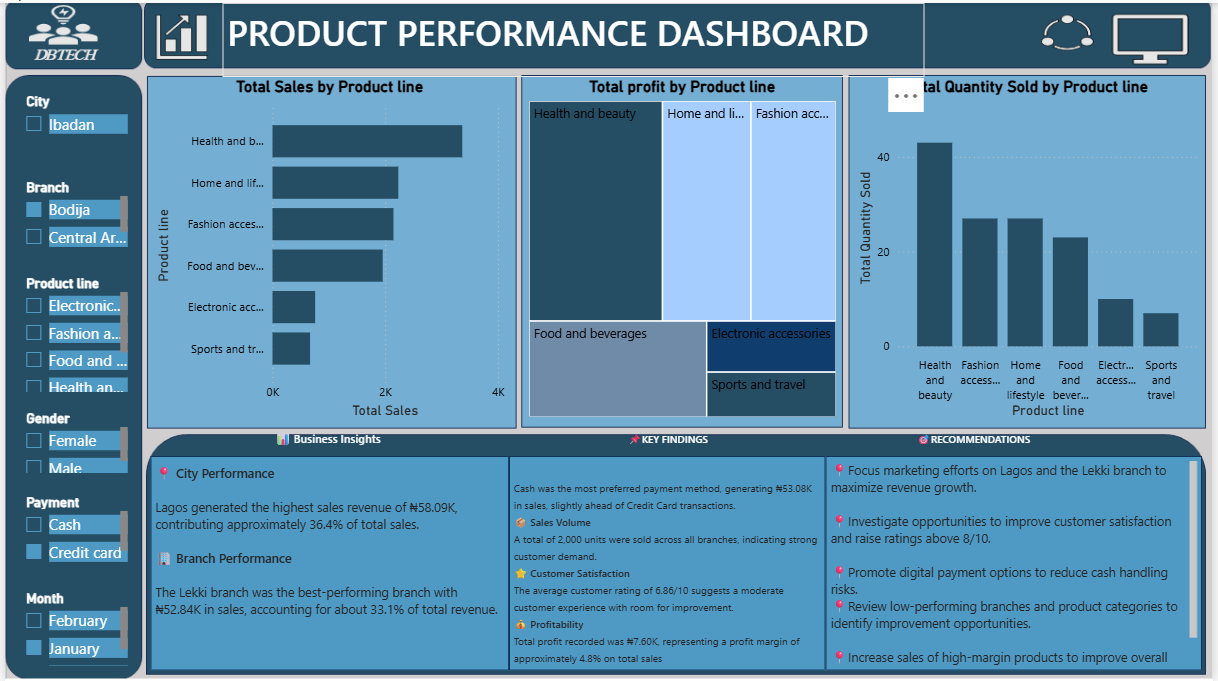

What the dashboard file says about the page in this screenshot:
{"tool":"powerbi","page":{"name":"Page 2","canvas":[1280,720],"ordinal":1},"visuals":[{"type":"barChart","fields":{"Category":["kingston Supermarket_Sales.Product line"],"Y":["kingston Supermarket_Sales.Total Sales"]},"box":[154.3,77.9,380.2,365.8],"z":0},{"type":"clusteredColumnChart","fields":{"Category":["kingston Supermarket_Sales.Product line"],"Y":["kingston Supermarket_Sales.Total Quantity Sold"]},"box":[898.7,77.9,370.6,365.8],"z":1000},{"type":"treemap","title":"Gross Income by Product line","fields":{"Group":["kingston Supermarket_Sales.Product line"],"Values":["kingston Supermarket_Sales.Total profit"]},"box":[550.4,77.9,335.6,365.8],"z":2000},{"type":"slicer","fields":{"Values":["kingston Supermarket_Sales.City"]},"box":[9.5,90.7,125.7,77.9],"z":3000},{"type":"slicer","fields":{"Values":["kingston Supermarket_Sales.Branch"]},"box":[9.5,181.3,125.7,85.9],"z":4000},{"type":"slicer","fields":{"Values":["kingston Supermarket_Sales.Gender"]},"box":[9.5,426.3,125.7,76.3],"z":5000},{"type":"slicer","fields":{"Values":["kingston Supermarket_Sales.Payment"]},"box":[9.5,515.4,125.7,89.1],"z":6000},{"type":"slicer","fields":{"Values":["kingston Supermarket_Sales.Product line"]},"box":[9.5,283.1,125.7,133.6],"z":7000},{"type":"slicer","fields":{"Values":["kingston Supermarket_Sales.Month"]},"box":[9.5,617.2,125.7,90.7],"z":8000},{"type":"shape","box":[154.3,480.4,380.2,227.5],"z":9000},{"type":"shape","box":[534.4,480.4,335.6,227.5],"z":10000},{"type":"shape","box":[870.1,480.4,399.2,227.5],"z":11000},{"type":"textbox","box":[154.3,483.5,380.2,224.3],"z":12000},{"type":"textbox","box":[534.4,480.4,335.6,227.5],"z":13000},{"type":"textbox","box":[870.1,480.4,399.2,227.5],"z":14000},{"type":"textbox","box":[281.5,447,168.6,39.8],"z":15000},{"type":"textbox","box":[962.3,447,217.9,38.2],"z":16000},{"type":"textbox","box":[230.6,0,744.4,77.9],"z":17000},{"type":"textbox","box":[563.1,447,279.9,36.6],"z":18000}]}

Visuals, with their boxes in screenshot pixels (x1, y1, x2, y2), scaled from the page's 1280x720 canvas onto the 1218x681 screenshot:
barChart - kingston Supermarket_Sales.Product line x kingston Supermarket_Sales.Total Sales: [x1=147, y1=74, x2=509, y2=420]
clusteredColumnChart - kingston Supermarket_Sales.Product line x kingston Supermarket_Sales.Total Quantity Sold: [x1=855, y1=74, x2=1208, y2=420]
"Gross Income by Product line" treemap: [x1=524, y1=74, x2=843, y2=420]
slicer - kingston Supermarket_Sales.City: [x1=9, y1=86, x2=129, y2=159]
slicer - kingston Supermarket_Sales.Branch: [x1=9, y1=171, x2=129, y2=253]
slicer - kingston Supermarket_Sales.Gender: [x1=9, y1=403, x2=129, y2=475]
slicer - kingston Supermarket_Sales.Payment: [x1=9, y1=487, x2=129, y2=572]
slicer - kingston Supermarket_Sales.Product line: [x1=9, y1=268, x2=129, y2=394]
slicer - kingston Supermarket_Sales.Month: [x1=9, y1=584, x2=129, y2=670]
shape: [x1=147, y1=454, x2=509, y2=670]
shape: [x1=509, y1=454, x2=828, y2=670]
shape: [x1=828, y1=454, x2=1208, y2=670]
textbox: [x1=147, y1=457, x2=509, y2=669]
textbox: [x1=509, y1=454, x2=828, y2=670]
textbox: [x1=828, y1=454, x2=1208, y2=670]
textbox: [x1=268, y1=423, x2=428, y2=460]
textbox: [x1=916, y1=423, x2=1123, y2=459]
textbox: [x1=219, y1=0, x2=928, y2=74]
textbox: [x1=536, y1=423, x2=802, y2=457]
